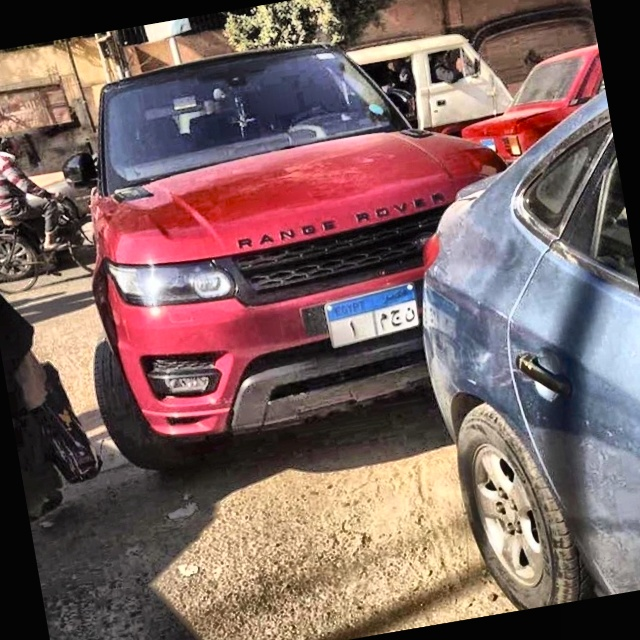License Plate: (321, 279, 426, 351)
